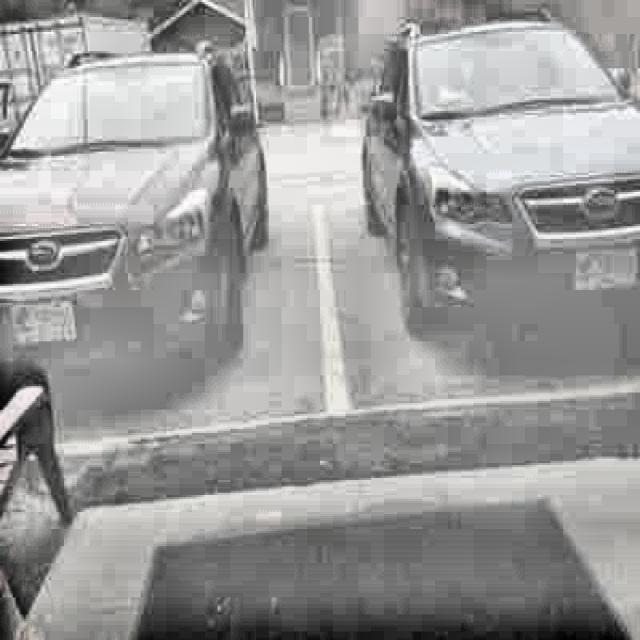license_plate: (0, 300, 79, 356), (576, 251, 640, 299)
